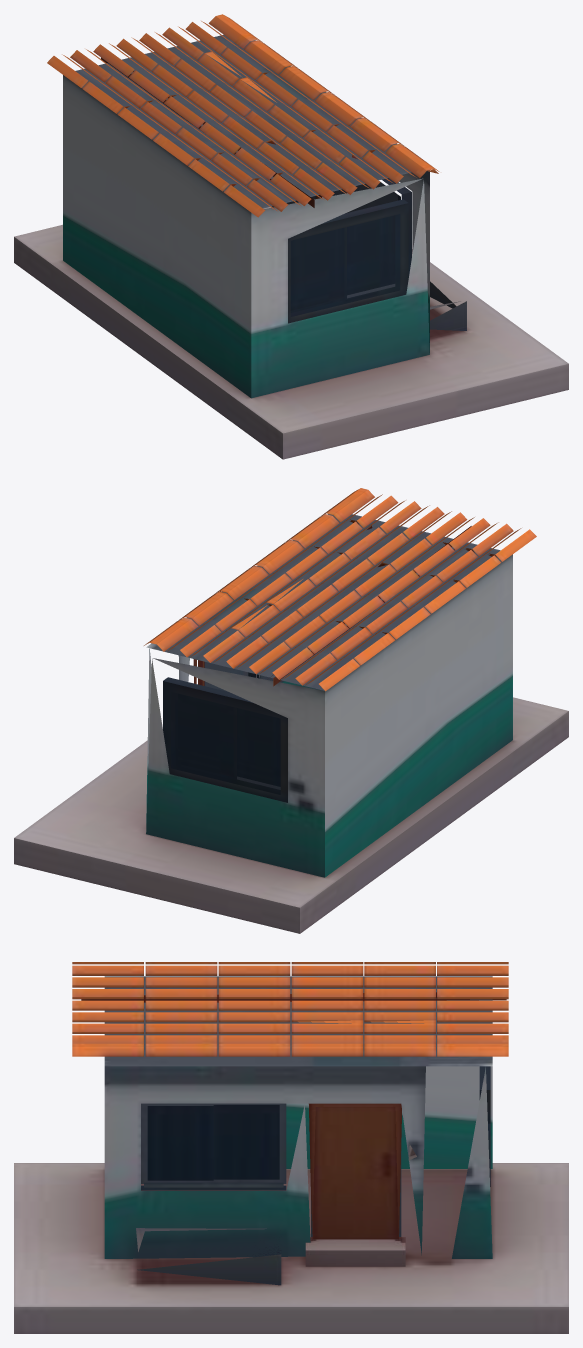
The model's file is casa-estrato-2.glb.
The picture shows the model from 3 angles, top to bottom: view 1: azimuth 30°, elevation 25°; view 2: azimuth 150°, elevation 25°; view 3: azimuth 270°, elevation 25°; orthographic projection. The views are drawn at different scales.
Parts seen in each view (by area): view 1: Blanco 3, Piso 3, Tejas 1, Negro 3, Matera 3; view 2: Blanco 3, Piso 3, Tejas 1, Negro 3; view 3: Piso 3, Blanco 3, Tejas 1, Madera 3, Negro 3, Gris 3, Matera 3.
Part boxes in pixels (x1,y1,x2,y2): Blanco 3: (63, 34, 429, 398); Piso 3: (14, 197, 568, 459); Tejas 1: (47, 14, 439, 217); Negro 3: (288, 178, 411, 323); Matera 3: (430, 281, 466, 330); Blanco 3: (146, 514, 512, 877); Piso 3: (14, 674, 568, 933); Tejas 1: (144, 488, 536, 691); Negro 3: (163, 672, 287, 802); Piso 3: (14, 1163, 568, 1333); Blanco 3: (104, 976, 492, 1258); Tejas 1: (72, 962, 508, 1056); Madera 3: (81, 992, 506, 1240); Negro 3: (141, 1066, 490, 1190); Gris 3: (305, 1144, 416, 1266); Matera 3: (136, 1228, 281, 1285).
Size of the model in its own units: 3.69 by 2.79 by 6.01.
Materials: 7 (7 with a texture image).
